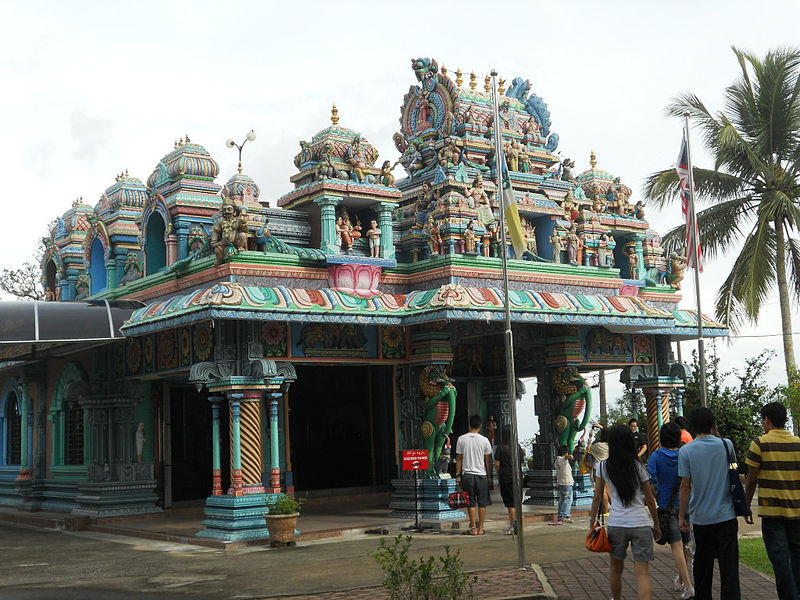Buddhist Temple: (1, 39, 674, 477)
